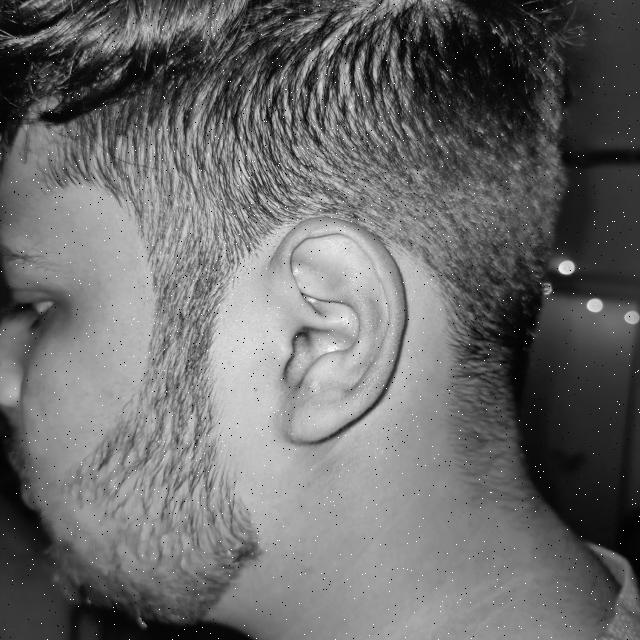ear: (271, 218, 405, 443)
